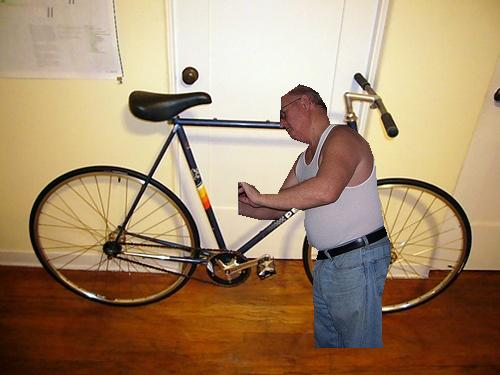tampered: (239, 85, 391, 348)
